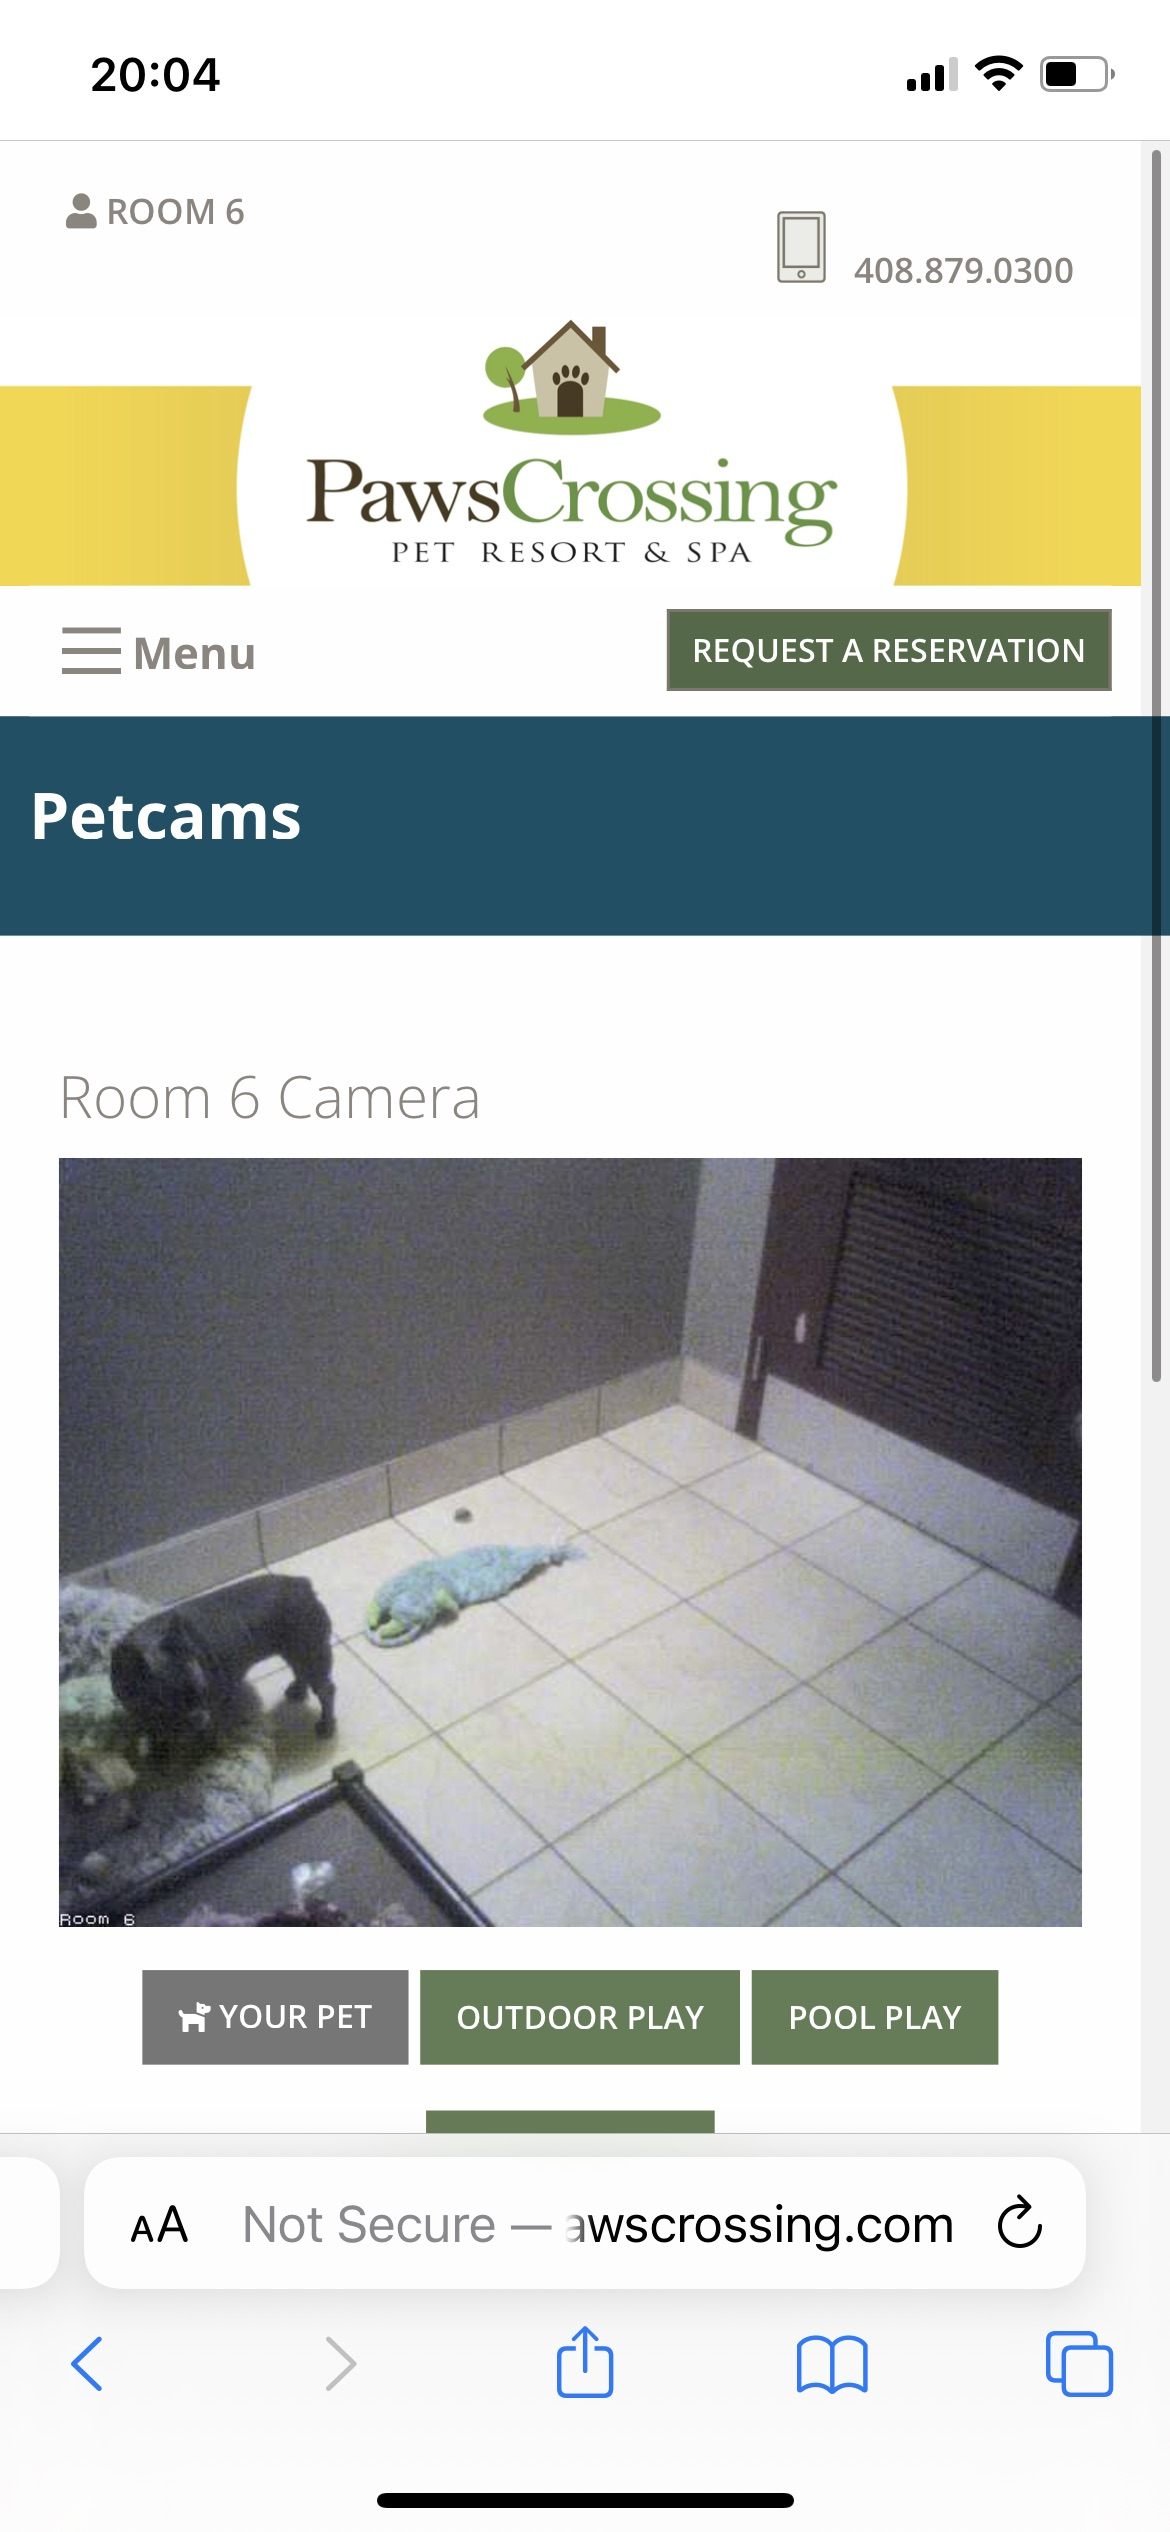lucy: (103, 1566, 357, 1768)
